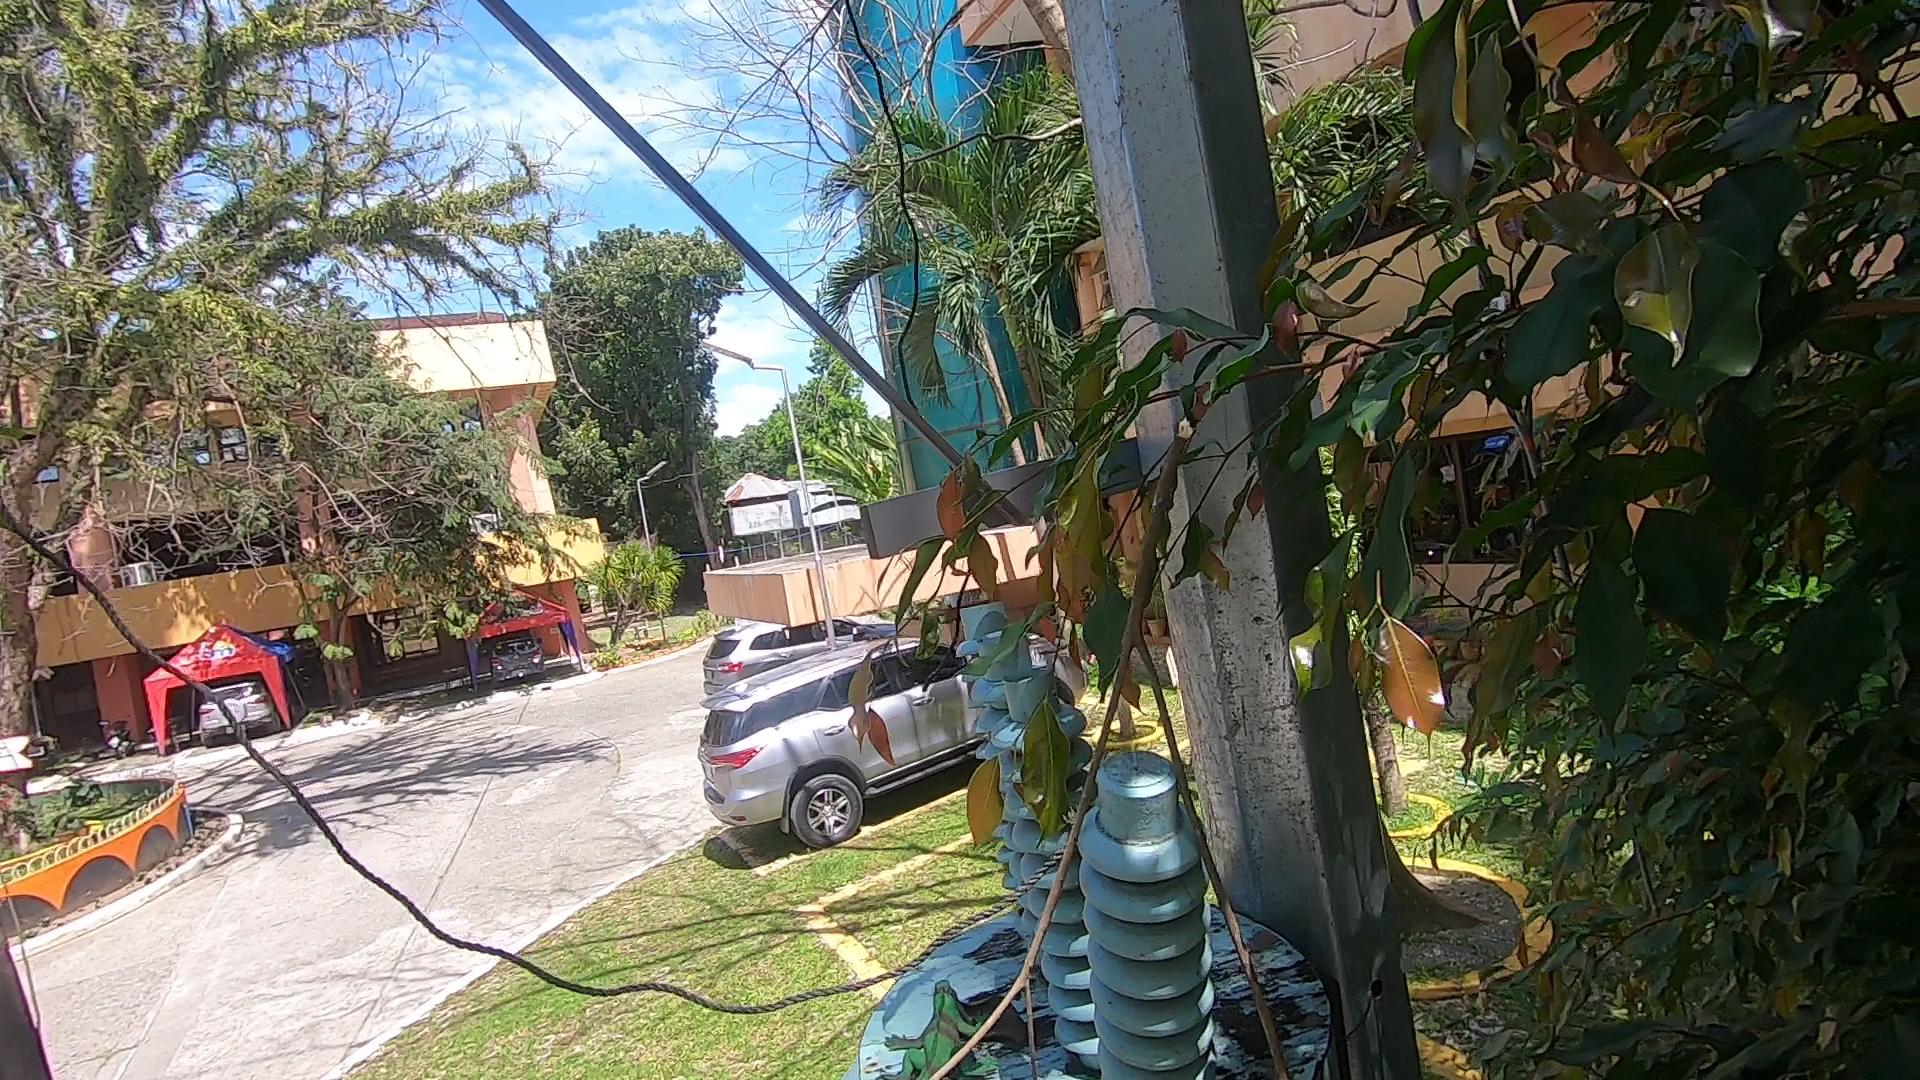leaf: (952, 973, 1033, 1051)
tree branch: (905, 382, 1292, 1080)
